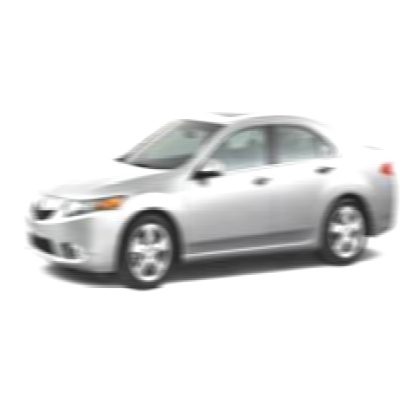Vehicle: (25, 109, 399, 295)
